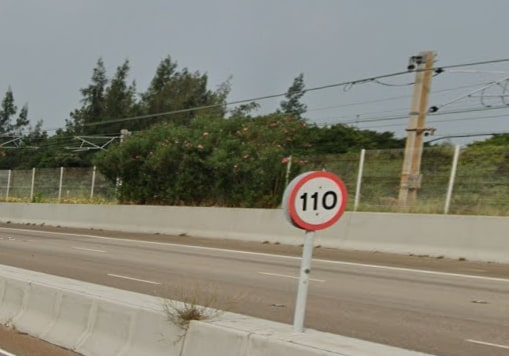Speed Limit: (289, 163, 347, 234)
